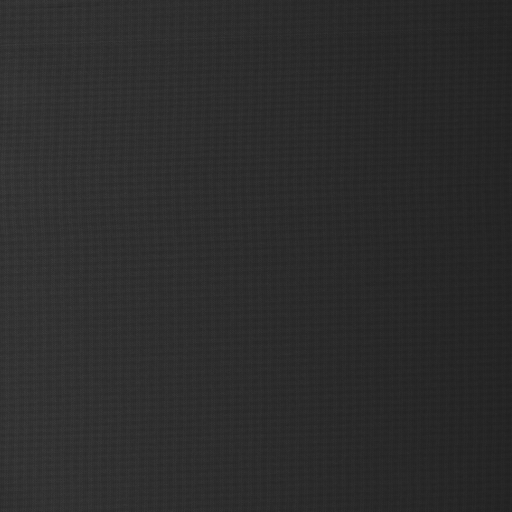defect: (1, 21, 512, 54)
